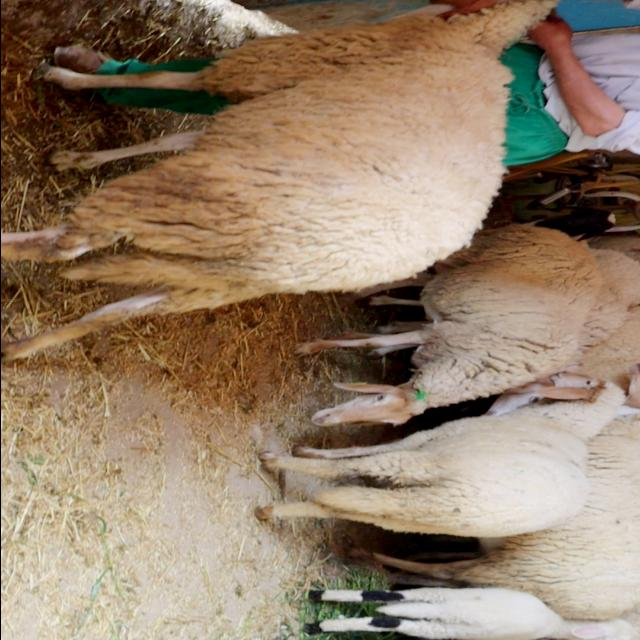Score_4: (1, 0, 556, 360)
